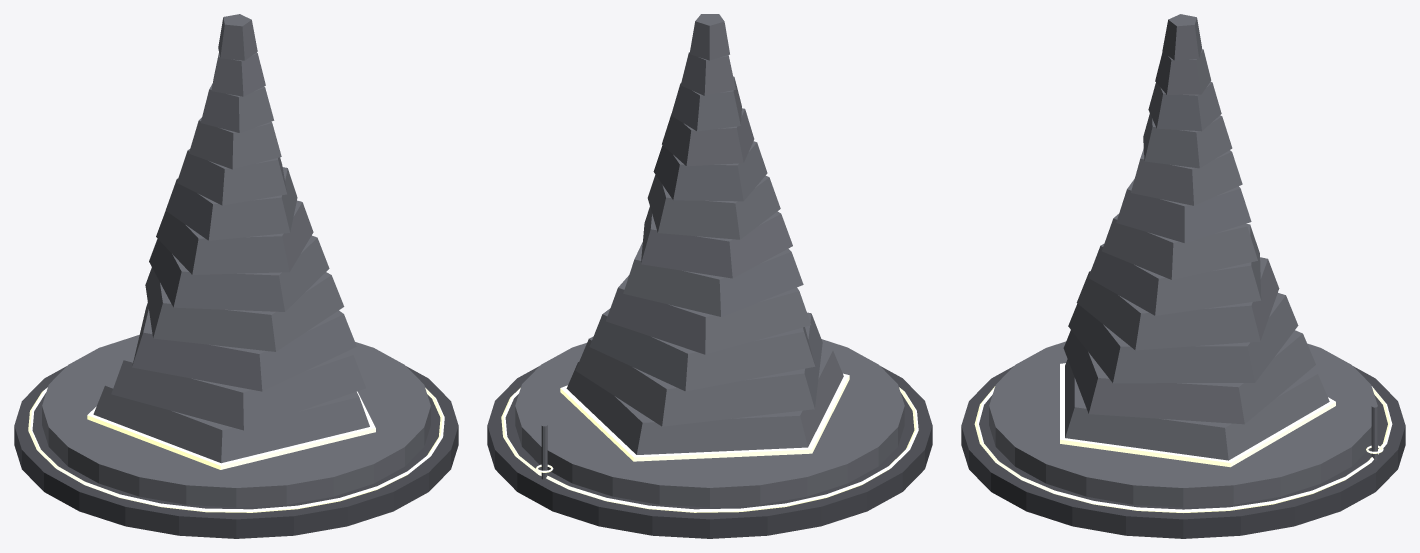
File: zone_high_1_t1.glb
3 renders of one model, left to right at view 1: azimuth 30°, elevation 25°; view 2: azimuth 150°, elevation 25°; view 3: azimuth 270°, elevation 25°, orthographic.
Visible parts, largest first — view 1: zone_high_1_t1; view 2: zone_high_1_t1; view 3: zone_high_1_t1.
Boxes of the visible parts, left/top/right/bottom form: zone_high_1_t1: left=14, top=14, right=458, bottom=538; zone_high_1_t1: left=487, top=14, right=932, bottom=538; zone_high_1_t1: left=961, top=14, right=1405, bottom=538.
Size of the model in its own units: 28.8 by 30.38 by 28.8.
